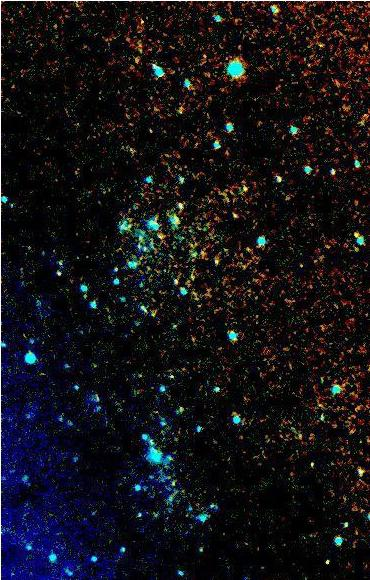star: (308, 546, 338, 576)
